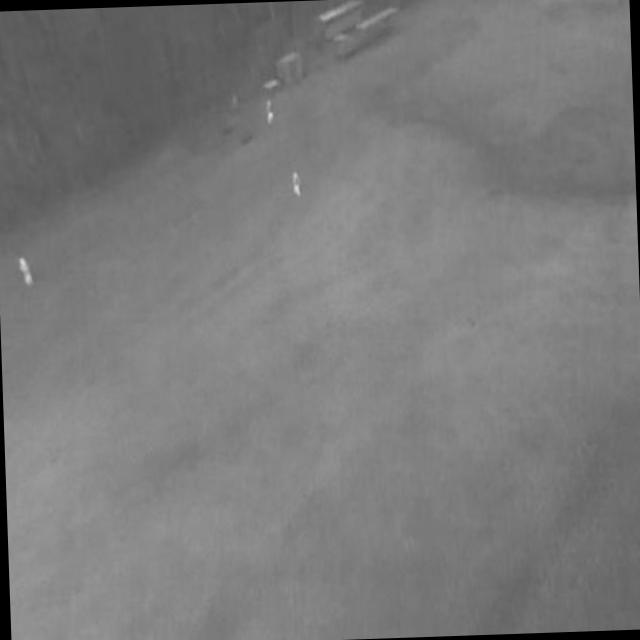person: (18, 257, 35, 289), (292, 171, 302, 199), (266, 100, 276, 125)
